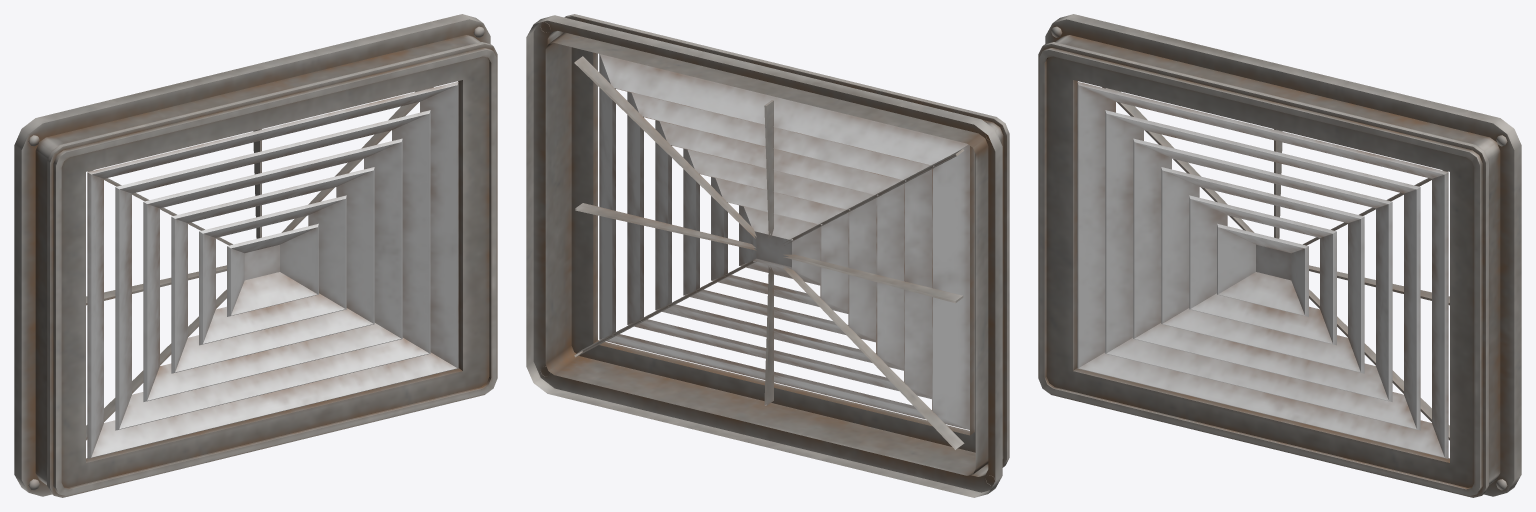
The model's file is vent_02.glb.
The picture shows the model from 3 angles, left to right: view 1: azimuth 30°, elevation 25°; view 2: azimuth 150°, elevation 25°; view 3: azimuth 330°, elevation 25°; orthographic projection.
Visible parts, largest first — view 1: modular_airduct_rectangular_01_vent_02.001; view 2: modular_airduct_rectangular_01_vent_02.001; view 3: modular_airduct_rectangular_01_vent_02.001.
Boxes of the visible parts, <box> form: modular_airduct_rectangular_01_vent_02.001: <box>14,14,497,497</box>; modular_airduct_rectangular_01_vent_02.001: <box>526,14,1009,497</box>; modular_airduct_rectangular_01_vent_02.001: <box>1038,14,1521,497</box>.
Size of the model in its own units: 0.5521 by 0.42 by 0.0567.
Materials: 1 (1 with a texture image).
